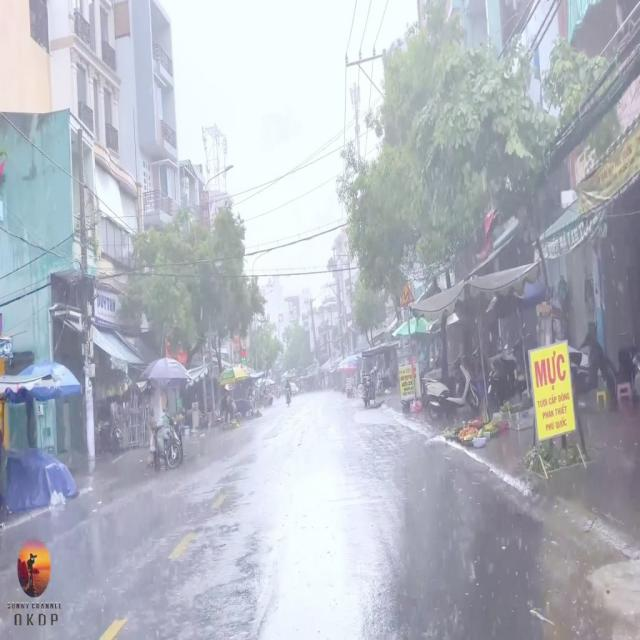cho_ngoat_nguy_hiem_lien_tiep: (401, 280, 416, 306)
